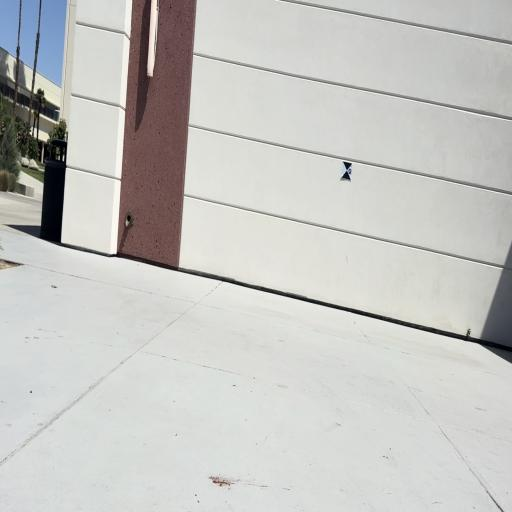target0: (340, 159, 353, 183)
